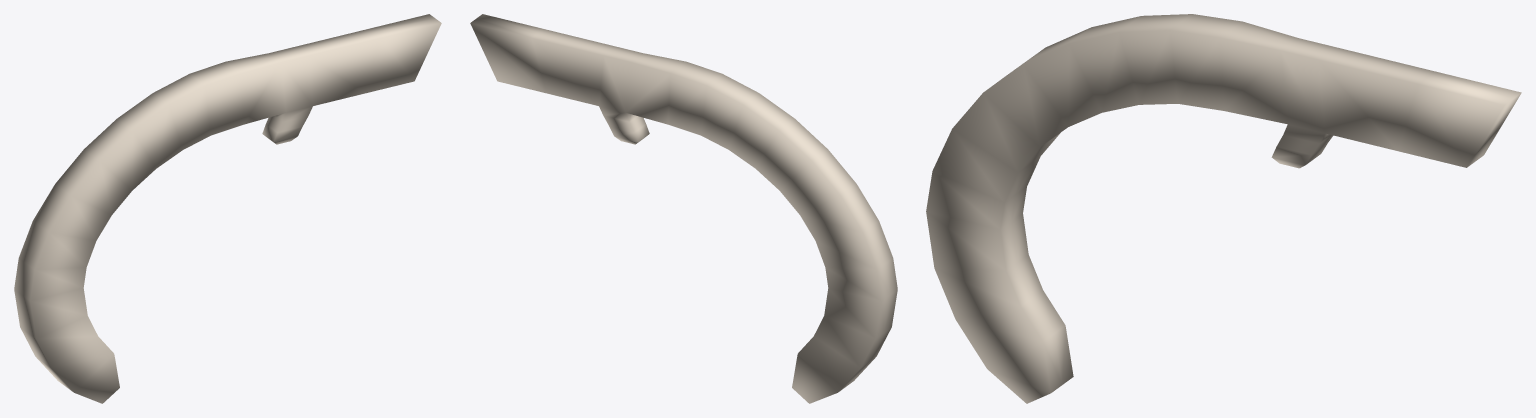
The model's file is A99 Trigger.fbx.
3 renders of one model, left to right at view 1: azimuth 30°, elevation 25°; view 2: azimuth 150°, elevation 25°; view 3: azimuth 330°, elevation 25°, orthographic. The views are drawn at different scales.
Visible parts, largest first — view 1: Trigger; view 2: Trigger; view 3: Trigger.
Boxes of the visible parts, left/top/right/bottom form: Trigger: left=14, top=14, right=441, bottom=403; Trigger: left=470, top=14, right=897, bottom=403; Trigger: left=926, top=14, right=1521, bottom=403.
Size of the model in its own units: 6.09 by 4.18 by 0.4122.
